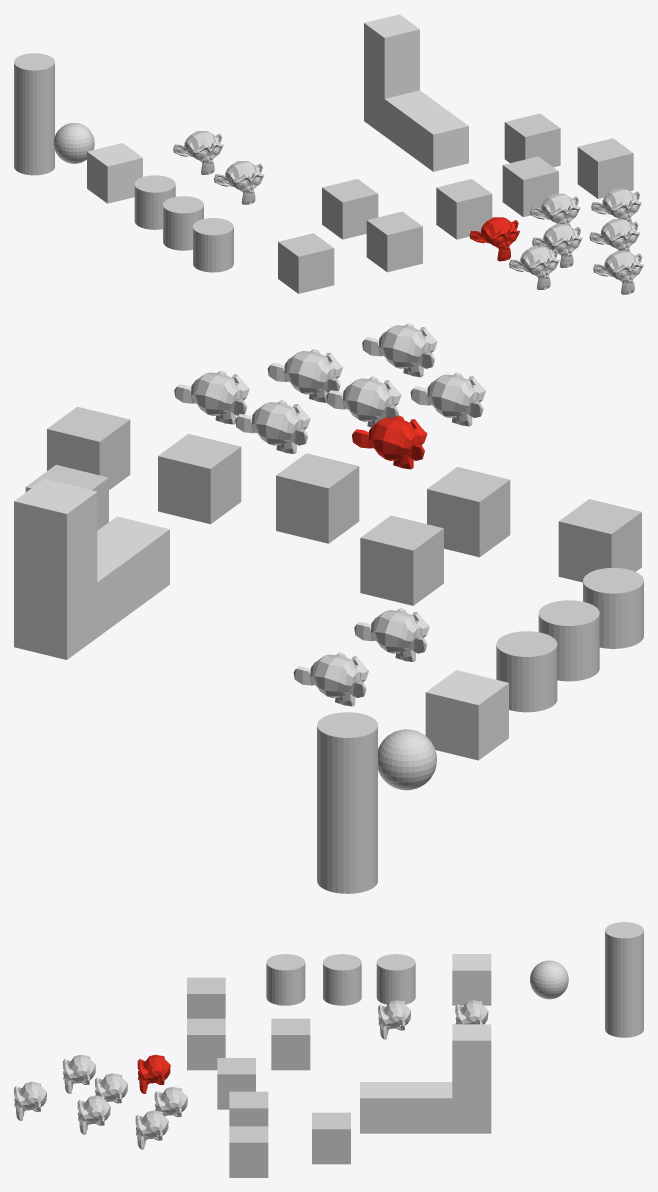
The picture shows the model from 3 angles, top to bottom: view 1: azimuth 30°, elevation 25°; view 2: azimuth 150°, elevation 25°; view 3: azimuth 270°, elevation 25°; orthographic projection. The views are drawn at different scales.
Visible parts, largest first — view 1: Shape2, Shape1, CylinderAnimatableBody, CubeMaterial, StaticBodyScript, BoxLayersSetViaString, CubeScript, BoxPhysicsMaterial, BasicStaticBodyBox, BoxLayersSetViaFile, PackedSceneStandIn, LinkedDupes3 (+12 smaller); view 2: Shape2, CylinderAnimatableBody, Shape1, BoxPhysicsMaterial, CubeScript, BoxLayersSetViaFile, BasicStaticBodyBox, StaticBodyScript, CubeMaterial, BoxLayersSetViaString, LinkedDupes, LinkedDupes3 (+12 smaller); view 3: Shape1, CylinderAnimatableBody, Shape2, CubeScript, BoxLayersSetViaString, PackedSceneStandIn, BasicStaticBodyBox, StaticBodyScript, LinkedDupes3, LinkedDupes2, LinkedDupes, CubeMaterial (+12 smaller).
Part boxes in pixels (x1,y1,x2,y2): Shape2: (364, 14, 419, 135); Shape1: (384, 90, 468, 171); CylinderAnimatableBody: (14, 53, 54, 175); CubeMaterial: (278, 233, 334, 293); StaticBodyScript: (366, 211, 422, 272); BoxLayersSetViaString: (577, 138, 633, 198); CubeScript: (322, 179, 378, 239); BoxPhysicsMaterial: (436, 179, 492, 239); BasicStaticBodyBox: (87, 143, 142, 203); BoxLayersSetViaFile: (502, 156, 558, 217); PackedSceneStandIn: (504, 113, 560, 167); LinkedDupes3: (193, 218, 233, 272); Shape2: (14, 479, 97, 659); CylinderAnimatableBody: (317, 712, 377, 893); Shape1: (97, 516, 169, 637); BoxPhysicsMaterial: (276, 453, 359, 543); CubeScript: (360, 515, 443, 605); BoxLayersSetViaFile: (158, 434, 241, 524); BasicStaticBodyBox: (425, 670, 508, 760); StaticBodyScript: (427, 467, 510, 557); CubeMaterial: (558, 499, 641, 582); BoxLayersSetViaString: (47, 406, 130, 489); LinkedDupes: (496, 631, 557, 712); LinkedDupes3: (583, 568, 643, 648); Shape1: (360, 1082, 452, 1133); CylinderAnimatableBody: (605, 922, 643, 1037); Shape2: (452, 1024, 491, 1133); CubeScript: (271, 1018, 310, 1070); BoxLayersSetViaString: (229, 1126, 268, 1177); PackedSceneStandIn: (312, 1112, 350, 1164); BasicStaticBodyBox: (452, 954, 491, 1005); StaticBodyScript: (187, 1018, 225, 1070); LinkedDupes3: (266, 954, 305, 1005); LinkedDupes2: (323, 954, 361, 1005); LinkedDupes: (376, 954, 415, 1004); CubeMaterial: (187, 977, 225, 1018).
Size of what is drawn, in the model's own units: 22.96 by 7.1 by 32.41.
